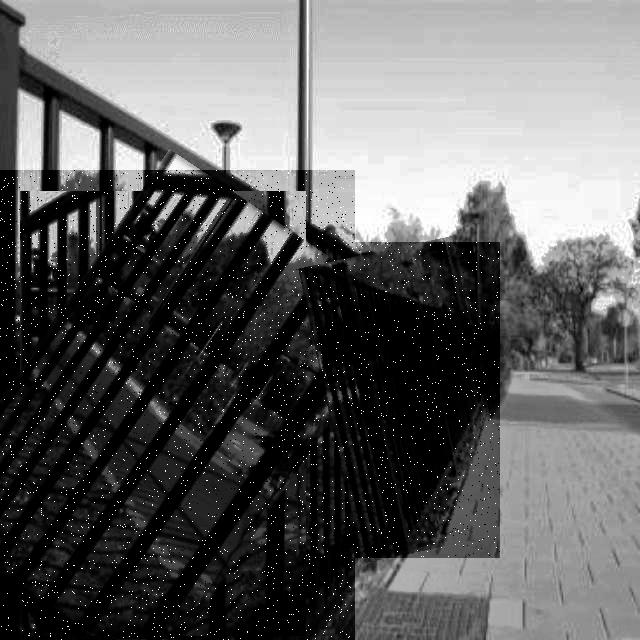fences: (0, 170, 355, 640), (313, 242, 500, 558)
